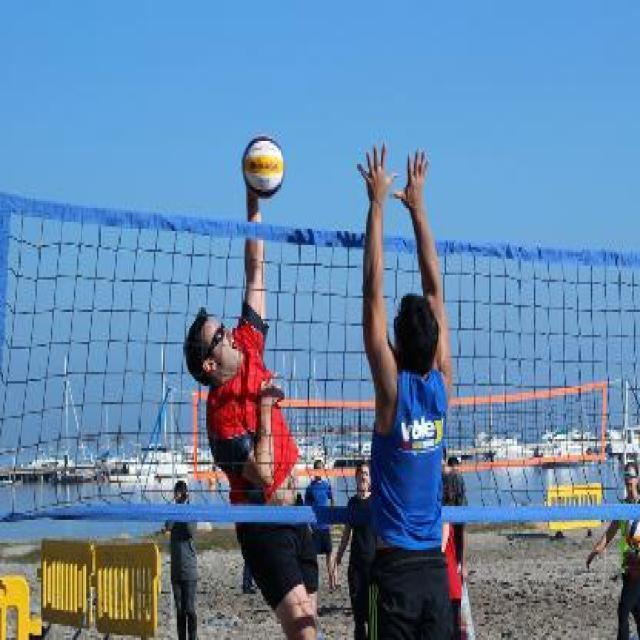volleyball: (242, 136, 284, 199)
